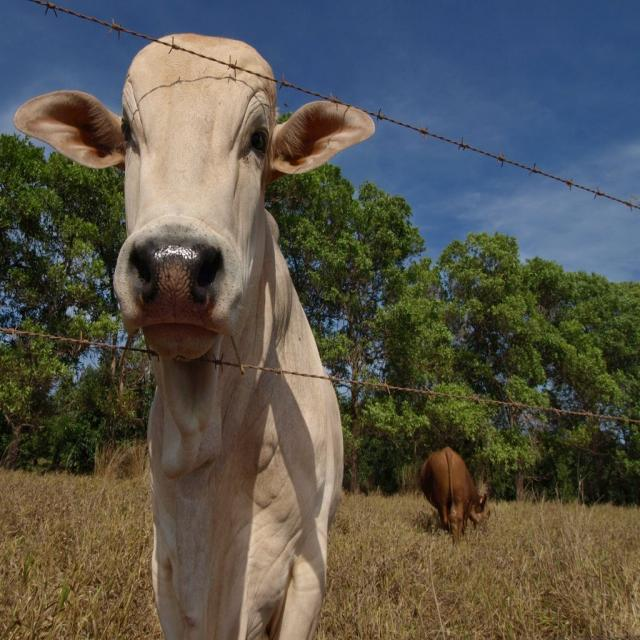Cattle: (13, 33, 376, 640), (420, 446, 490, 547)
